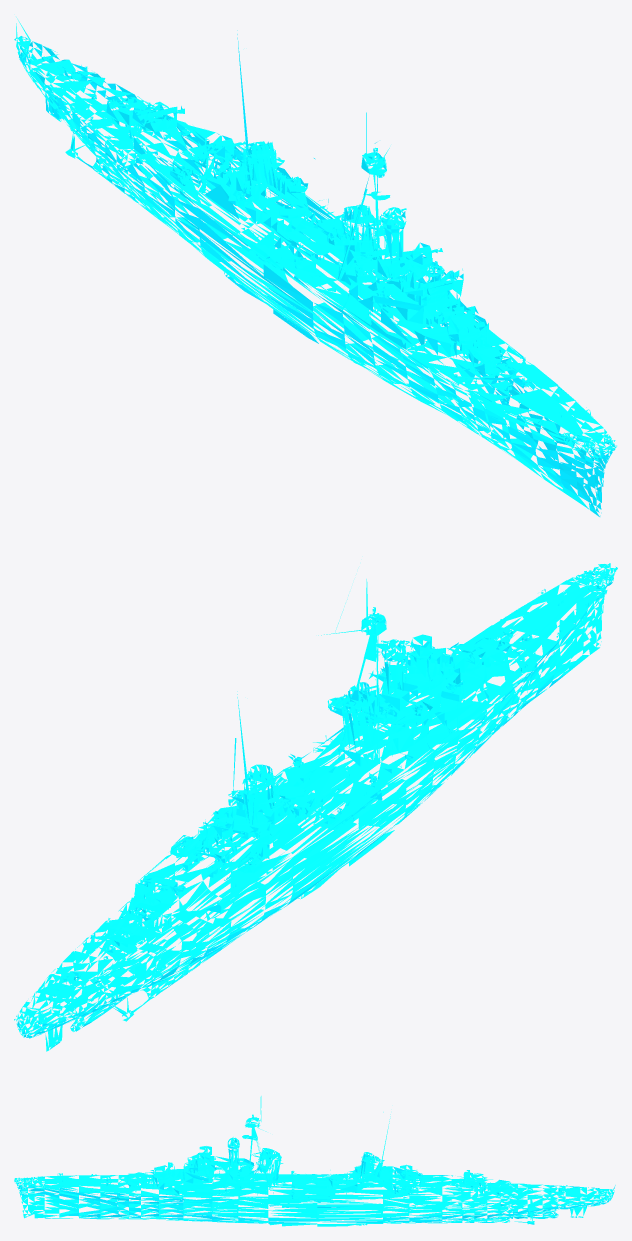
Rendered from Black_Munchen.glb.
The picture shows the model from 3 angles, top to bottom: view 1: azimuth 30°, elevation 25°; view 2: azimuth 150°, elevation 25°; view 3: azimuth 270°, elevation 25°; orthographic projection. The views are drawn at different scales.
Size of the model in its own units: 1.13 by 3.1 by 12.25.
